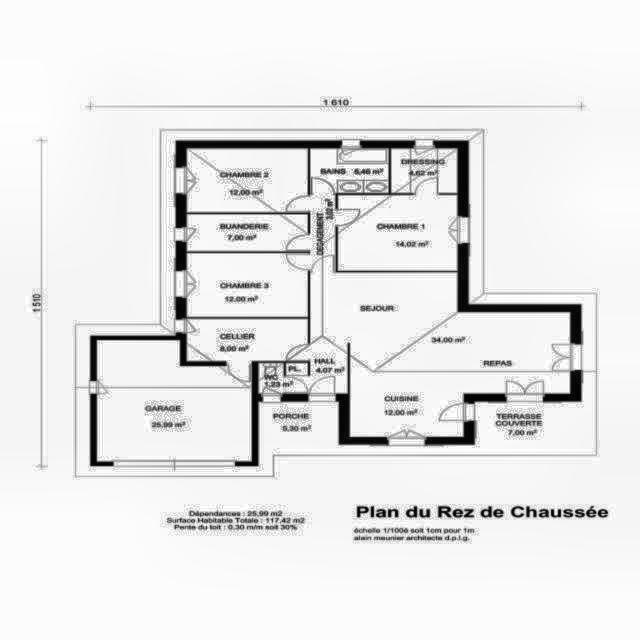room: (285, 270, 583, 440), (97, 340, 252, 462), (335, 195, 458, 271), (186, 148, 310, 213), (186, 253, 310, 317), (186, 318, 308, 366), (187, 214, 310, 252), (310, 148, 389, 195), (391, 148, 458, 195), (310, 194, 336, 271), (258, 363, 286, 394)
